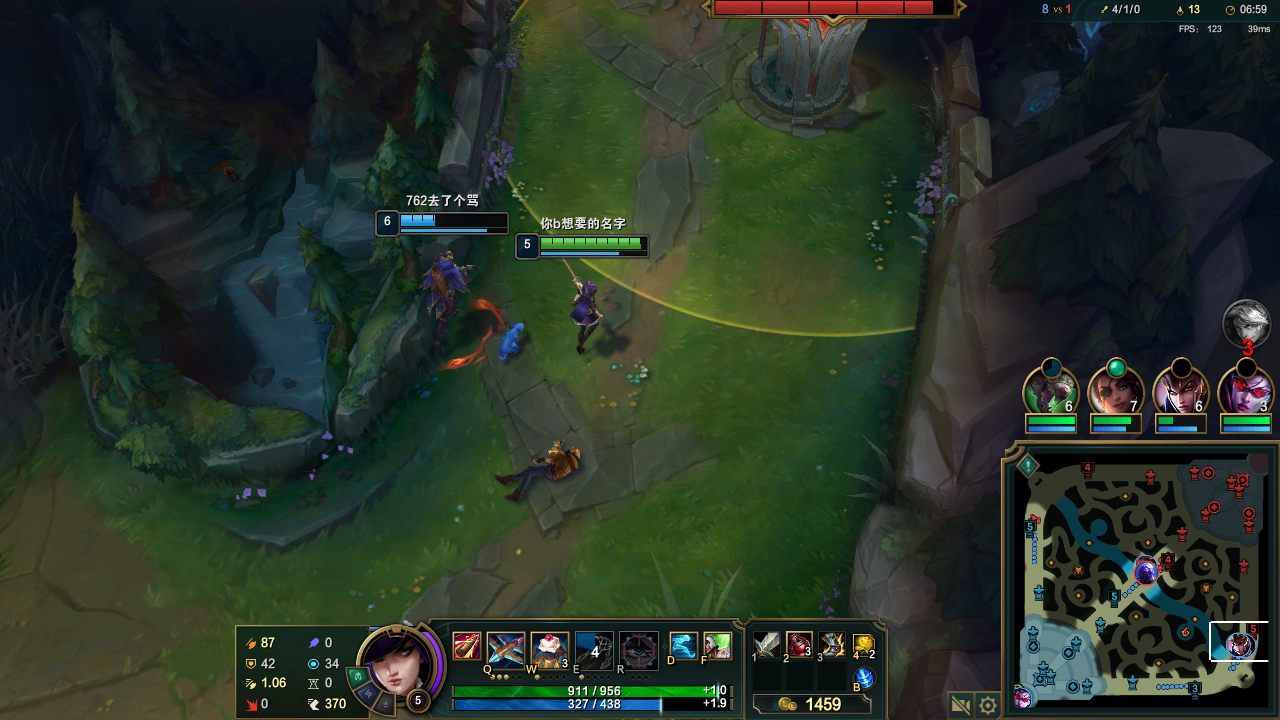DFFYT: (741, 1, 862, 119)
